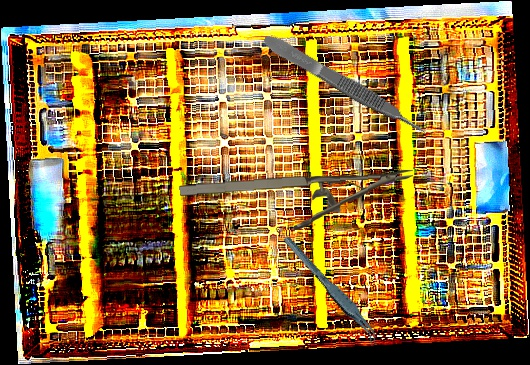Needle Holder: (179, 169, 415, 235)
Tissue Forceps: (260, 29, 430, 142), (282, 225, 382, 355)
